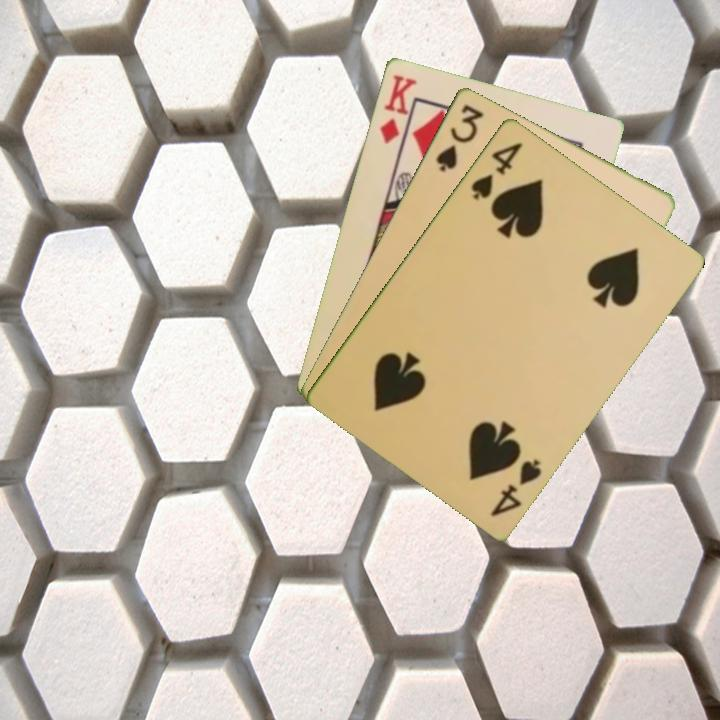3s: (432, 100, 487, 174)
4s: (467, 138, 526, 203), (487, 455, 545, 519)
Kd: (375, 70, 420, 147)
